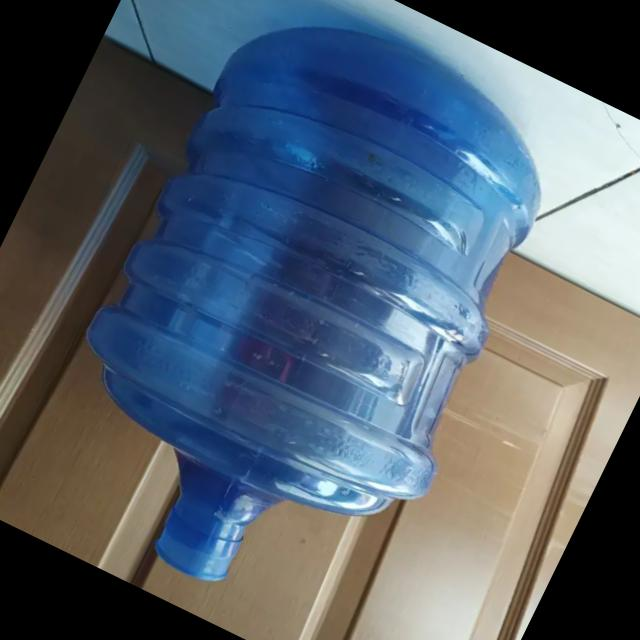Galon: (6, 0, 599, 640)
